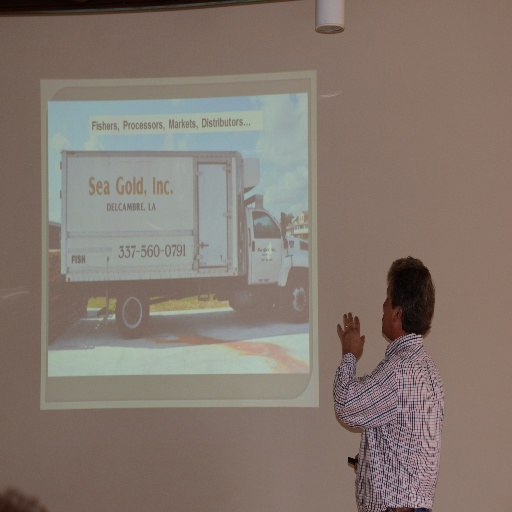hand: (336, 307, 364, 368), (354, 449, 359, 469)
